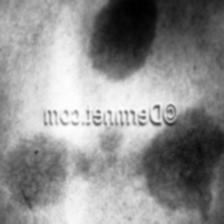Unclassified: (150, 118, 224, 212), (5, 128, 80, 212), (85, 0, 158, 76)
